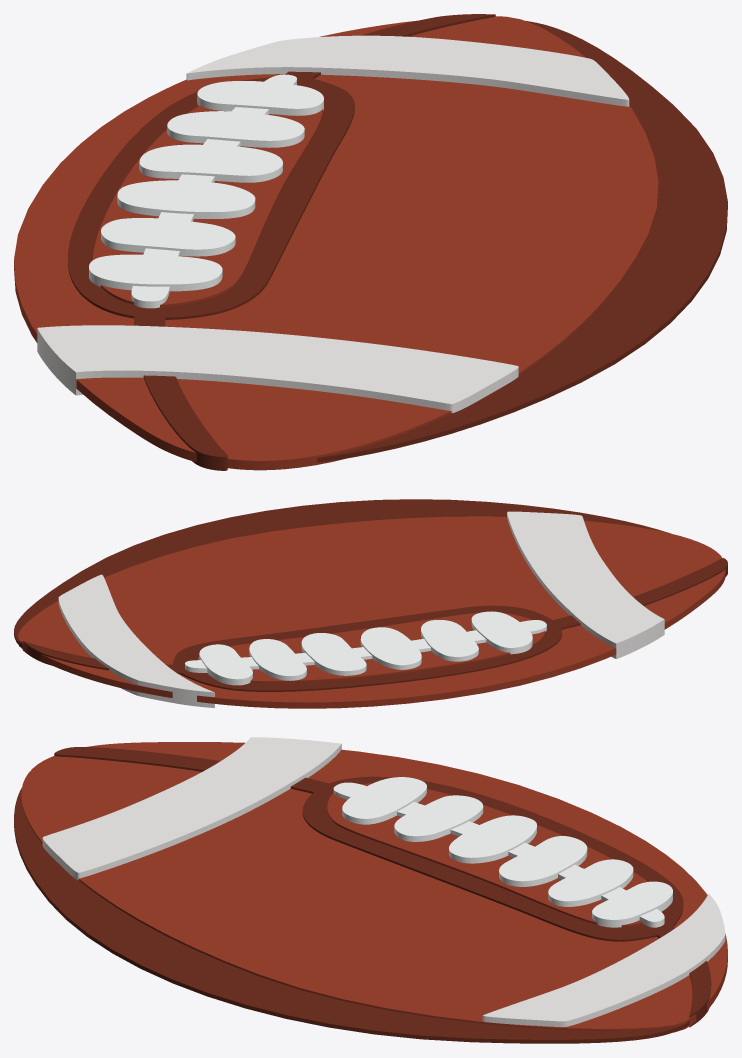
Rendered from emoji_u1f3c8.glb.
The picture shows the model from 3 angles, top to bottom: view 1: azimuth 30°, elevation 25°; view 2: azimuth 150°, elevation 25°; view 3: azimuth 270°, elevation 25°; orthographic projection. The views are drawn at different scales.
Parts seen in each view (by area): view 1: emoji_u1f3c8; view 2: emoji_u1f3c8; view 3: emoji_u1f3c8.
Boxes of the visible parts, x1,y1,x2,y2 form: emoji_u1f3c8: (14,14,727,470); emoji_u1f3c8: (14,499,727,708); emoji_u1f3c8: (14,737,727,1043).
Size of the model in its own units: 0.0333 by 0.0014 by 0.0339.
